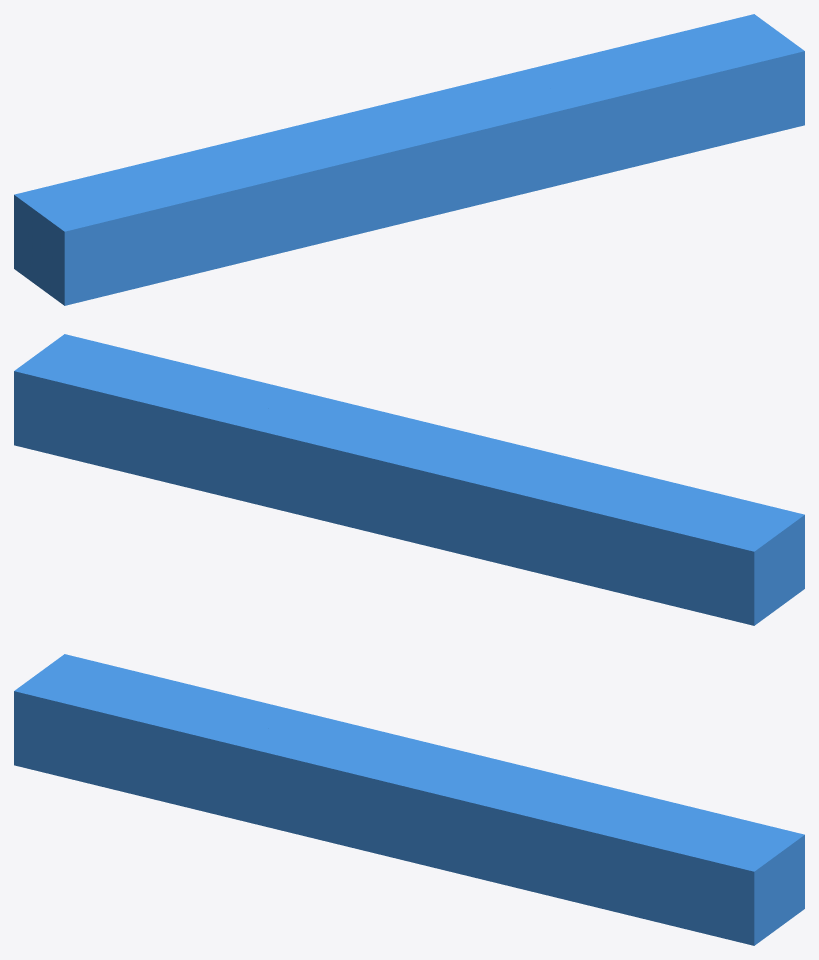
The model's file is solander-battery-cell.glb.
3 views of the same model, one above another, from view 1: azimuth 30°, elevation 25°; view 2: azimuth 150°, elevation 25°; view 3: azimuth 330°, elevation 25° (orthographic).
Visible parts, largest first — view 1: CELL 1, CELL 4, CELL 3, CELL 8, CELL 6, CELL 2, CELL 5, CELL 7; view 2: CELL 8, CELL 1, CELL 5, CELL 6, CELL 3, CELL 4, CELL 7, CELL 2; view 3: CELL 1, CELL 8, CELL 6, CELL 2, CELL 3, CELL 4, CELL 5, CELL 7.
Part boxes in pixels (box(x1,y1,x2,y2)): CELL 1: box(58, 46, 804, 305); CELL 4: box(39, 32, 785, 291); CELL 3: box(45, 37, 791, 296); CELL 8: box(14, 14, 759, 272); CELL 6: box(26, 23, 772, 282); CELL 2: box(52, 42, 798, 300); CELL 5: box(33, 28, 779, 286); CELL 7: box(20, 18, 766, 277); CELL 8: box(14, 366, 760, 625); CELL 1: box(59, 334, 804, 592); CELL 5: box(33, 352, 779, 611); CELL 6: box(27, 357, 773, 616); CELL 3: box(46, 343, 792, 602); CELL 4: box(39, 348, 785, 606); CELL 7: box(20, 362, 766, 620); CELL 2: box(52, 338, 798, 597); CELL 1: box(14, 686, 760, 945); CELL 8: box(59, 654, 804, 912); CELL 6: box(46, 663, 792, 922); CELL 2: box(20, 682, 766, 940); CELL 3: box(27, 677, 773, 936); CELL 4: box(33, 672, 779, 931); CELL 5: box(39, 668, 785, 926); CELL 7: box(52, 658, 798, 917).
Size of the model in its own units: 0.945 by 0.0905 by 0.112.
